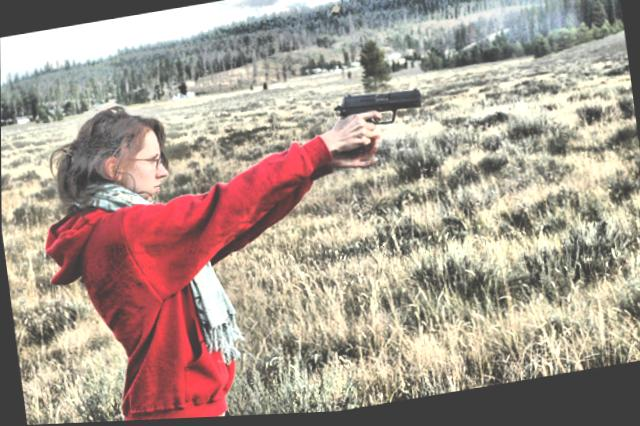pistol: (330, 84, 425, 158)
